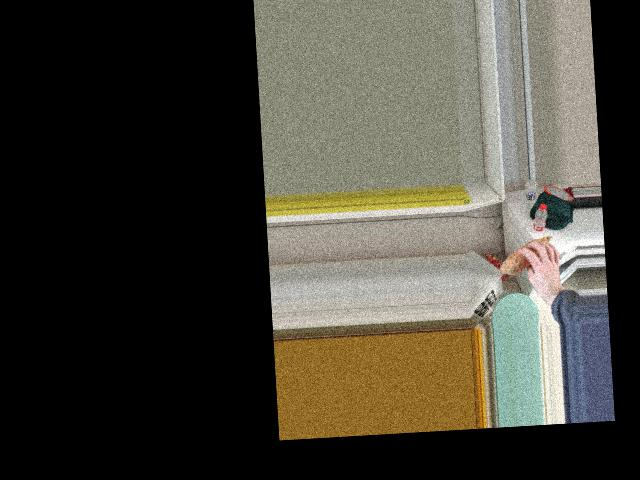sweet_potato: (500, 238, 556, 276)
